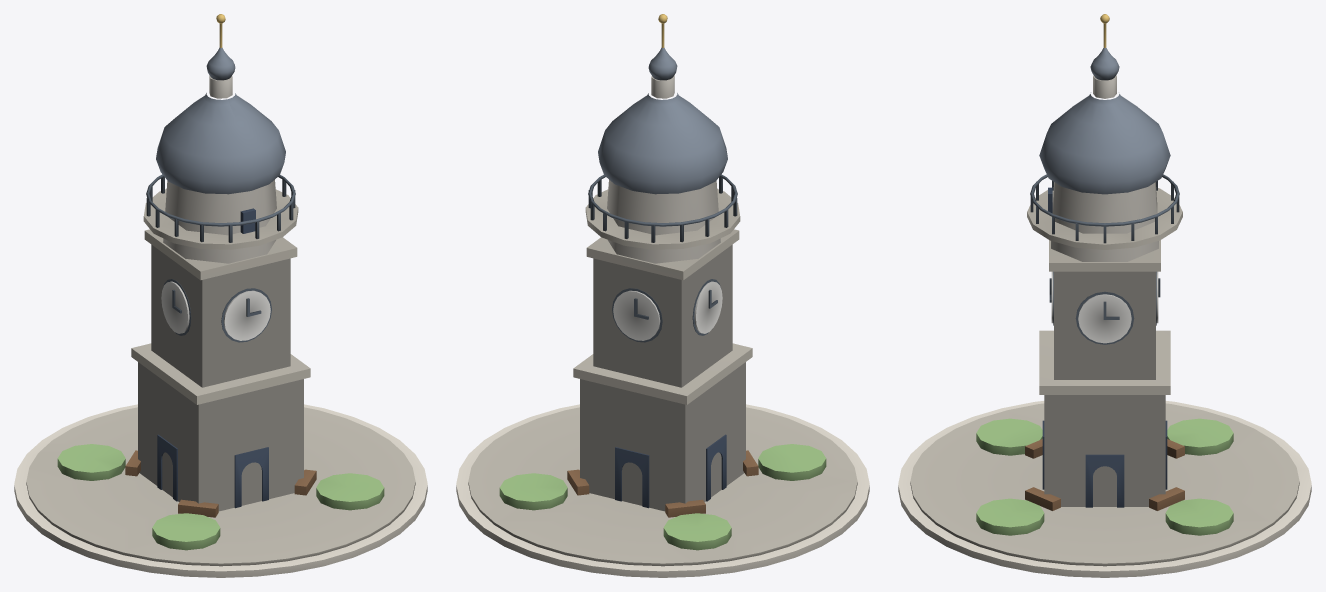
The model's file is giurgiu.glb.
The picture shows the model from 3 angles, left to right: view 1: azimuth 30°, elevation 25°; view 2: azimuth 150°, elevation 25°; view 3: azimuth 270°, elevation 25°; orthographic projection.
Visible parts, largest first — view 1: giurgiu_stoneGray, giurgiu_plaster, giurgiu_roofSlate, giurgiu_stoneLight, giurgiu_grass, giurgiu_white, giurgiu_iron, giurgiu_window, giurgiu_wood; view 2: giurgiu_stoneGray, giurgiu_plaster, giurgiu_roofSlate, giurgiu_stoneLight, giurgiu_grass, giurgiu_white, giurgiu_iron, giurgiu_window, giurgiu_wood; view 3: giurgiu_stoneGray, giurgiu_plaster, giurgiu_roofSlate, giurgiu_stoneLight, giurgiu_grass, giurgiu_white, giurgiu_iron, giurgiu_window, giurgiu_wood.
Boxes of the visible parts, <box> form: giurgiu_stoneGray: <box>26,189,415,566</box>; giurgiu_plaster: <box>138,75,303,511</box>; giurgiu_roofSlate: <box>156,47,285,194</box>; giurgiu_stoneLight: <box>14,404,427,577</box>; giurgiu_grass: <box>57,444,384,550</box>; giurgiu_white: <box>161,281,270,340</box>; giurgiu_iron: <box>146,174,295,342</box>; giurgiu_window: <box>157,208,268,508</box>; giurgiu_wood: <box>125,450,316,517</box>; giurgiu_stoneGray: <box>468,189,857,566</box>; giurgiu_plaster: <box>580,75,745,511</box>; giurgiu_roofSlate: <box>598,47,727,194</box>; giurgiu_stoneLight: <box>456,404,869,577</box>; giurgiu_grass: <box>499,444,826,550</box>; giurgiu_white: <box>613,281,722,340</box>; giurgiu_iron: <box>588,174,737,342</box>; giurgiu_window: <box>615,434,726,508</box>; giurgiu_wood: <box>567,450,758,517</box>; giurgiu_stoneGray: <box>910,188,1299,566</box>; giurgiu_plaster: <box>1044,75,1165,506</box>; giurgiu_roofSlate: <box>1039,48,1170,194</box>; giurgiu_stoneLight: <box>898,401,1311,577</box>; giurgiu_grass: <box>976,418,1233,535</box>; giurgiu_white: <box>1051,271,1158,343</box>; giurgiu_iron: <box>1030,174,1179,344</box>; giurgiu_window: <box>1042,187,1167,507</box>; giurgiu_wood: <box>1025,439,1184,510</box>.
Bounding box in the file's own units: 1.7 × 2.16 × 1.7.
